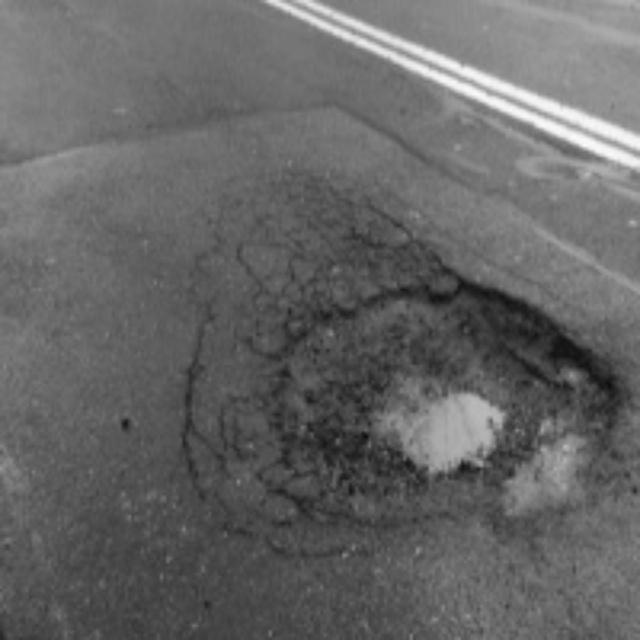Pothole: (230, 242, 598, 530)
